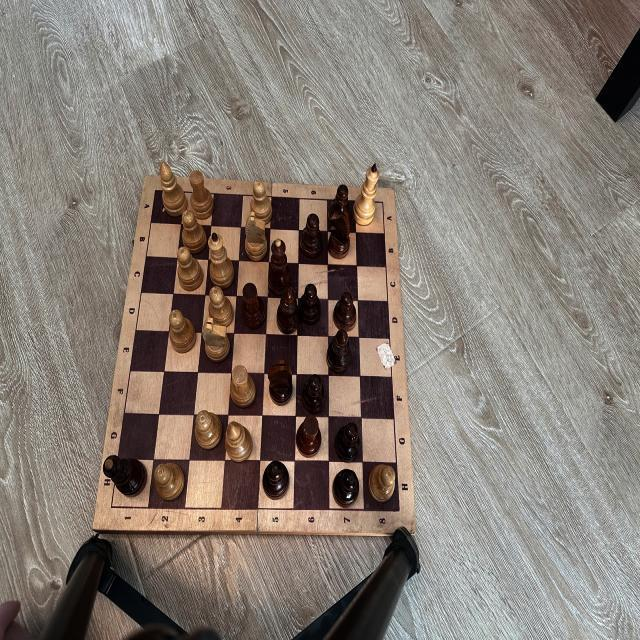chess-table-corners: (108, 502, 116, 513), (379, 196, 387, 206), (396, 504, 402, 516), (152, 187, 159, 196)
